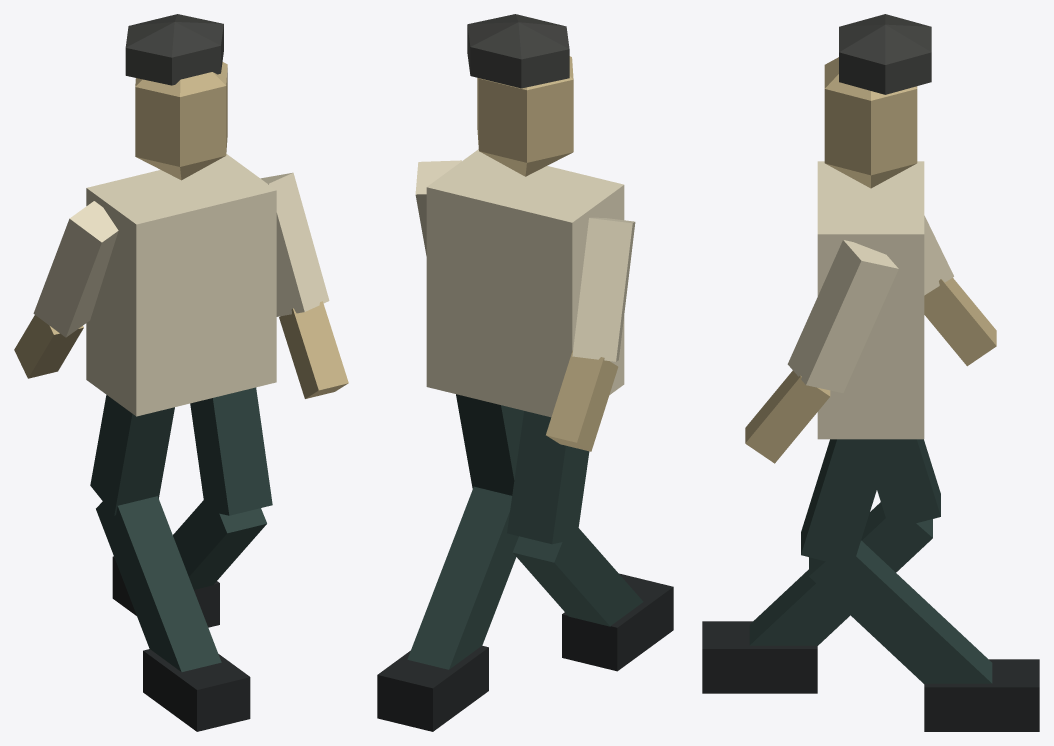
Rendered from TownResident1.obj.
The picture shows the model from 3 angles, left to right: view 1: azimuth 30°, elevation 25°; view 2: azimuth 150°, elevation 25°; view 3: azimuth 270°, elevation 25°; orthographic projection. The views are drawn at different scales.
Parts seen in each view (by area): view 1: TownResident1; view 2: TownResident1; view 3: TownResident1.
Part boxes in pixels (x1,y1,x2,y2): TownResident1: (14, 14, 348, 731); TownResident1: (377, 14, 673, 731); TownResident1: (702, 14, 1039, 731).
Bounding box in the file's own units: 0.7047 × 1.81 × 0.82.
1 material, 1 textured.
